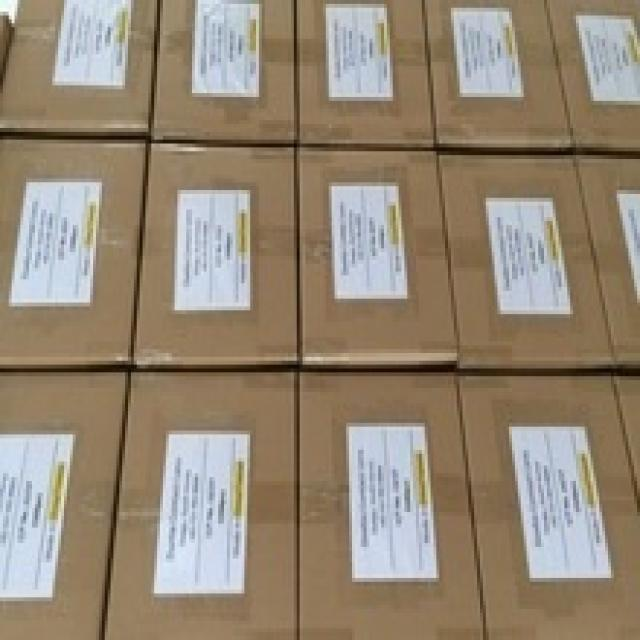box: (102, 369, 299, 636), (297, 367, 485, 636), (457, 371, 637, 636), (437, 155, 616, 371), (131, 143, 298, 369), (0, 132, 151, 369), (297, 148, 457, 369), (0, 371, 129, 636), (423, 0, 574, 149), (0, 3, 159, 138), (152, 0, 299, 145), (295, 0, 437, 147), (548, 0, 637, 151), (574, 155, 637, 365), (613, 372, 637, 481)
